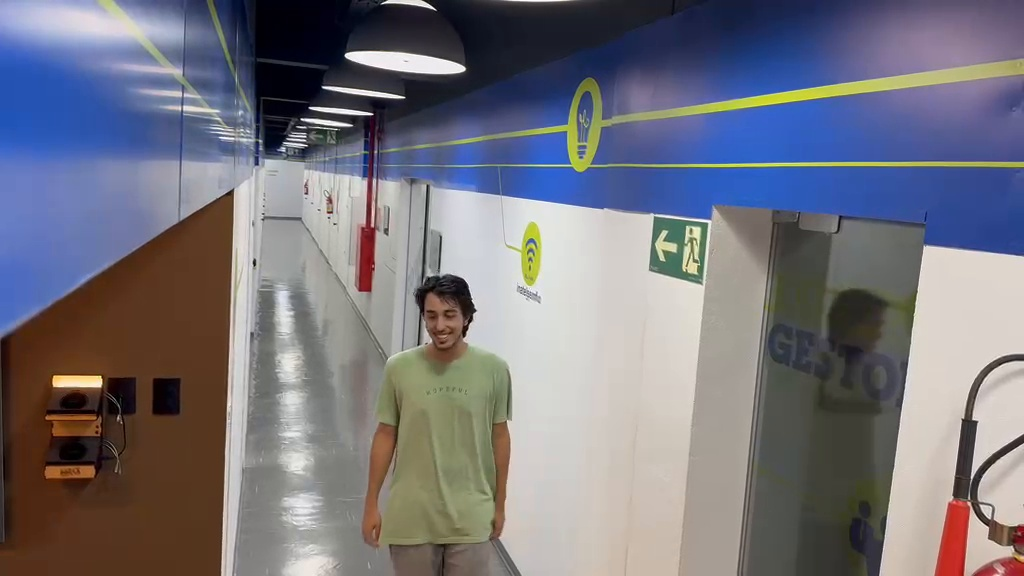person: (359, 273, 513, 574)
